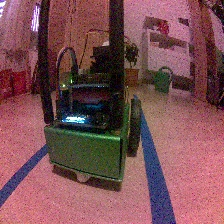rob: (43, 45, 142, 184)
